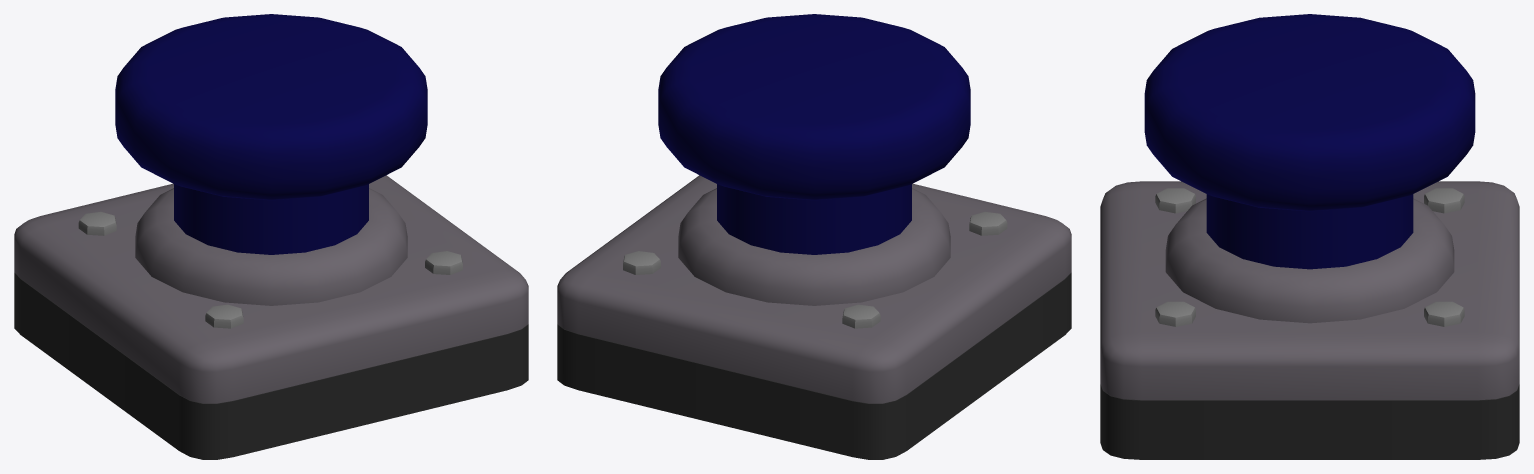
Rendered from basic_button_animated.fbx.
The picture shows the model from 3 angles, left to right: view 1: azimuth 30°, elevation 25°; view 2: azimuth 150°, elevation 25°; view 3: azimuth 270°, elevation 25°; orthographic projection. The views are drawn at different scales.
Parts seen in each view (by area): view 1: ButtonCase, ButtonHead, buttonBase, ButtonCaseBulb, ButtonStem, screw1, screw4, screw2; view 2: ButtonCase, ButtonHead, buttonBase, ButtonCaseBulb, ButtonStem, screw4, screw1, screw3; view 3: ButtonCase, ButtonHead, buttonBase, ButtonCaseBulb, ButtonStem, screw2, screw3, screw1, screw4.
Boxes of the visible parts, x1=… form: ButtonCase: x1=14, y1=175, x2=528, y2=403; ButtonHead: x1=115, y1=14, x2=427, y2=200; buttonBase: x1=14, y1=272, x2=528, y2=459; ButtonCaseBulb: x1=135, y1=188, x2=407, y2=305; ButtonStem: x1=174, y1=184, x2=368, y2=254; screw1: x1=205, y1=304, x2=243, y2=328; screw4: x1=78, y1=211, x2=116, y2=235; screw2: x1=425, y1=251, x2=462, y2=274; ButtonCase: x1=557, y1=175, x2=1071, y2=403; ButtonHead: x1=658, y1=14, x2=970, y2=200; buttonBase: x1=557, y1=272, x2=1071, y2=459; ButtonCaseBulb: x1=678, y1=188, x2=950, y2=305; ButtonStem: x1=717, y1=184, x2=911, y2=254; screw4: x1=842, y1=304, x2=880, y2=328; screw1: x1=969, y1=211, x2=1007, y2=235; screw3: x1=623, y1=251, x2=660, y2=274; ButtonCase: x1=1100, y1=181, x2=1519, y2=400; ButtonHead: x1=1144, y1=14, x2=1475, y2=211; buttonBase: x1=1100, y1=384, x2=1519, y2=459; ButtonCaseBulb: x1=1165, y1=198, x2=1454, y2=323; ButtonStem: x1=1206, y1=194, x2=1413, y2=269; screw2: x1=1155, y1=301, x2=1195, y2=326; screw3: x1=1424, y1=301, x2=1464, y2=326; screw1: x1=1155, y1=188, x2=1195, y2=213; screw4: x1=1424, y1=188, x2=1464, y2=213.
Size of the model in its own units: 50 by 38.99 by 50.
